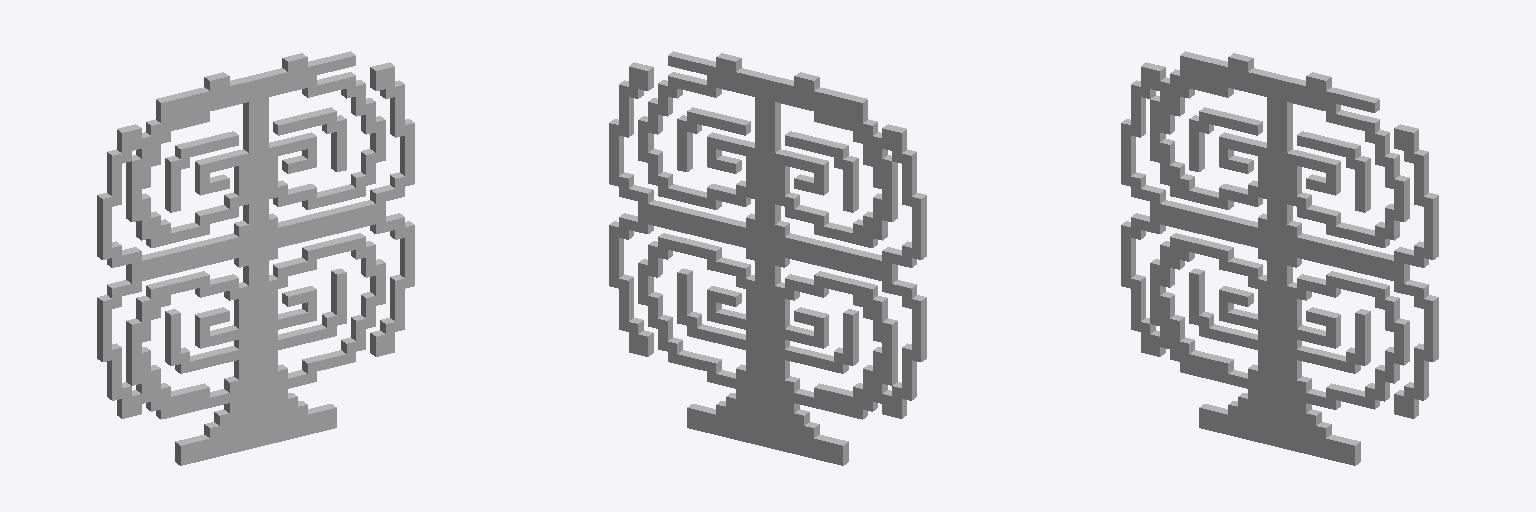
Rendered from tree4.obj.
The picture shows the model from 3 angles: view 1: azimuth 30°, elevation 25°; view 2: azimuth 150°, elevation 25°; view 3: azimuth 330°, elevation 25°; orthographic projection.
Visible parts, largest first — view 1: object 1; view 2: object 1; view 3: object 1.
Boxes of the visible parts, x1=… form: object 1: x1=97, y1=51, x2=414, y2=465; object 1: x1=609, y1=51, x2=926, y2=465; object 1: x1=1121, y1=51, x2=1438, y2=465.
Bounding box in the file's own units: 3.2 × 3.7 × 0.1.